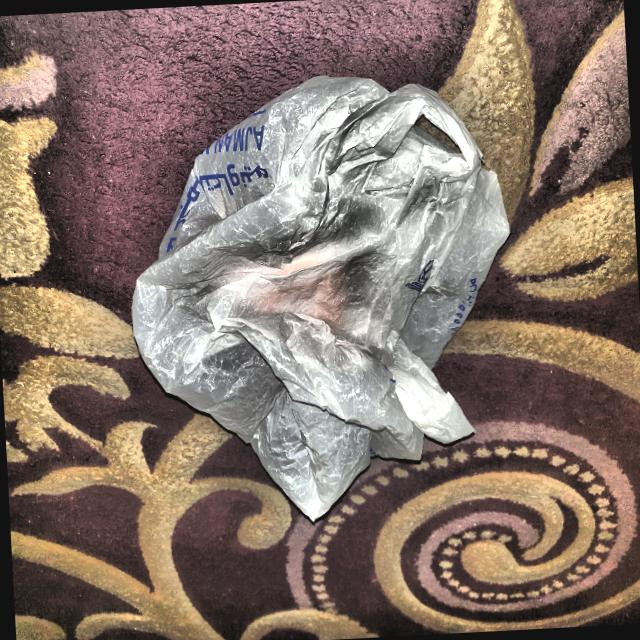plastic bag: (116, 55, 535, 542)
